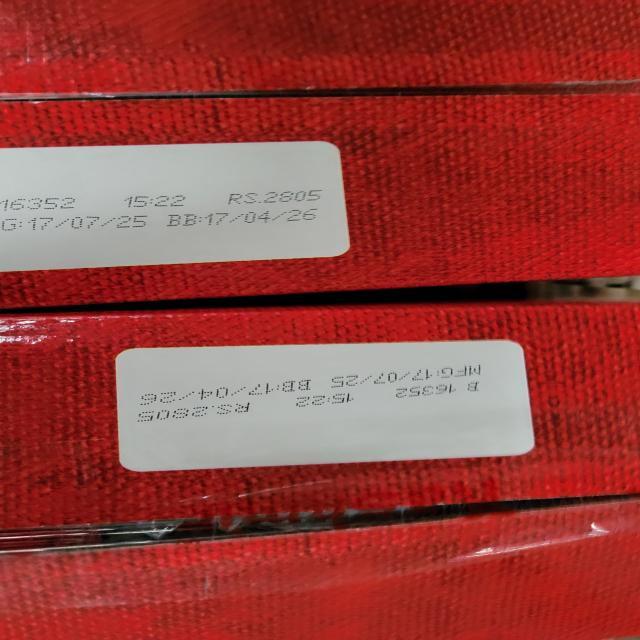BB: (134, 373, 315, 407), (167, 212, 329, 233)
Batch: (395, 376, 494, 404)
MFG: (327, 357, 491, 392)
RS: (136, 403, 263, 423), (226, 189, 330, 208)
TimeStamp: (285, 389, 368, 414), (123, 193, 196, 209)
